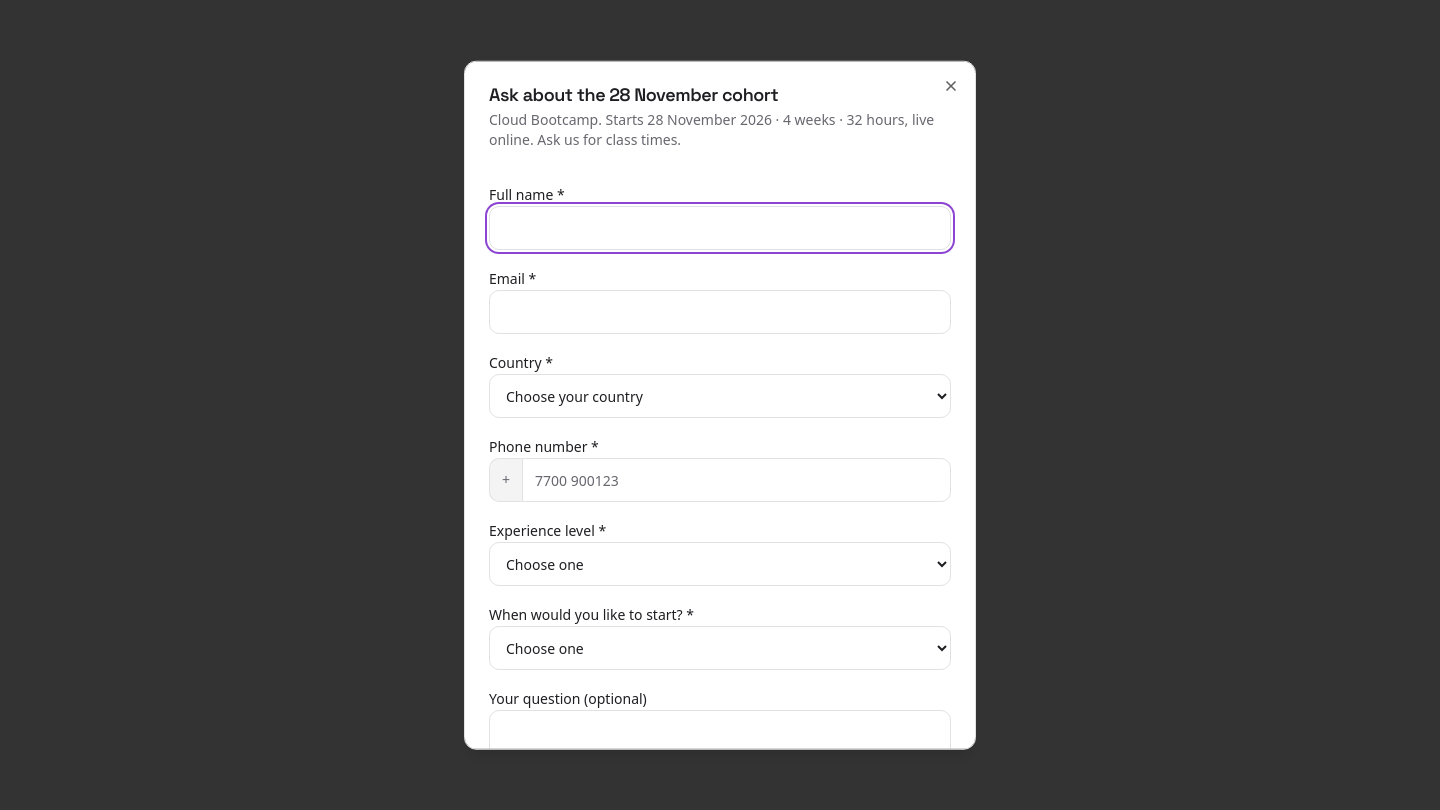
Scenario: Cloud cohort enquiry › saves the enquiry with the course preselected, then tracks one Lead
In the field labelled "Full name *": point(720, 228) [489, 206, 951, 250], type "Ada Test"
In the field labelled "Email *": point(720, 312) [489, 290, 951, 334], type "ada@example.test"
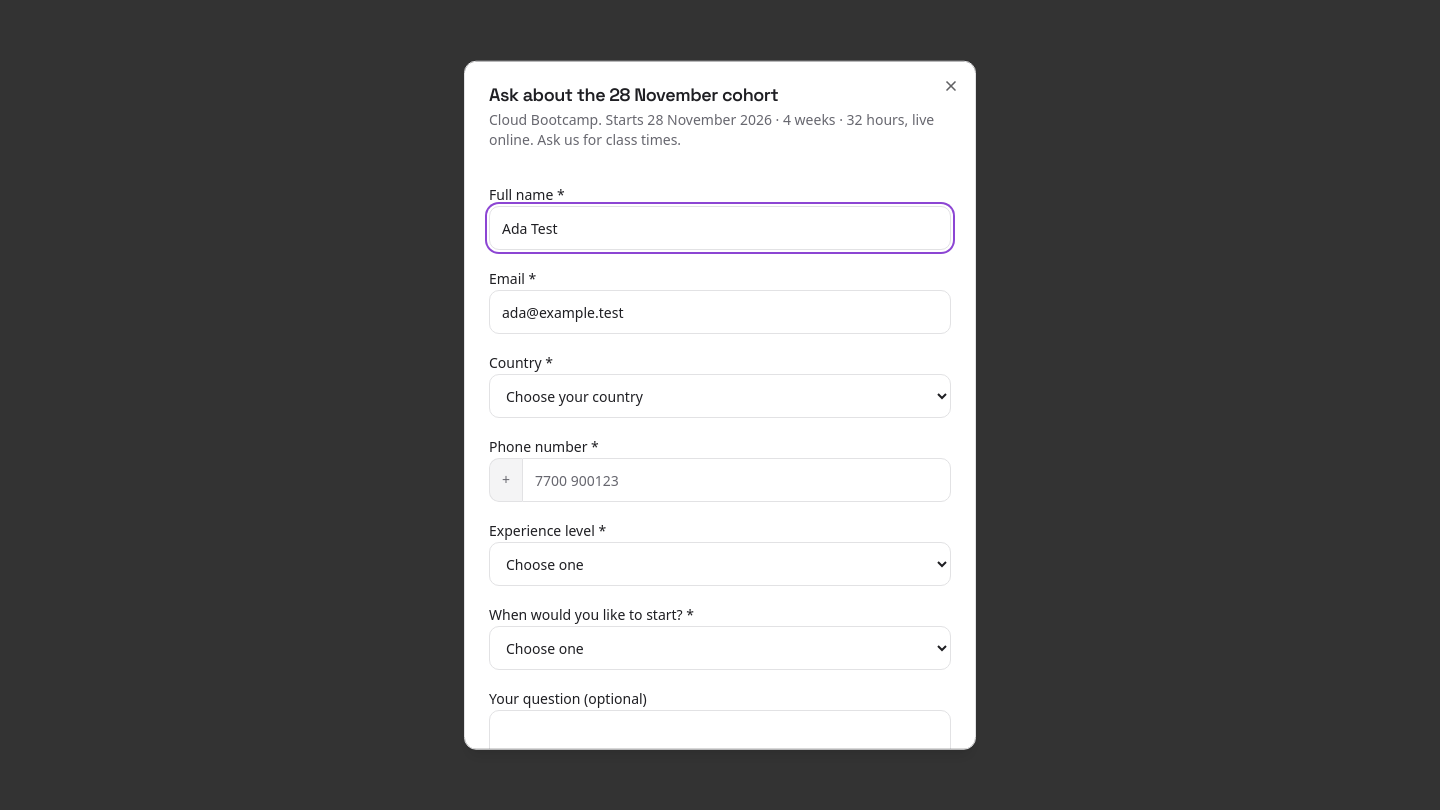
In the field labelled "Phone number *": point(736, 480) [522, 458, 951, 502], type "+234 801 234 5678"
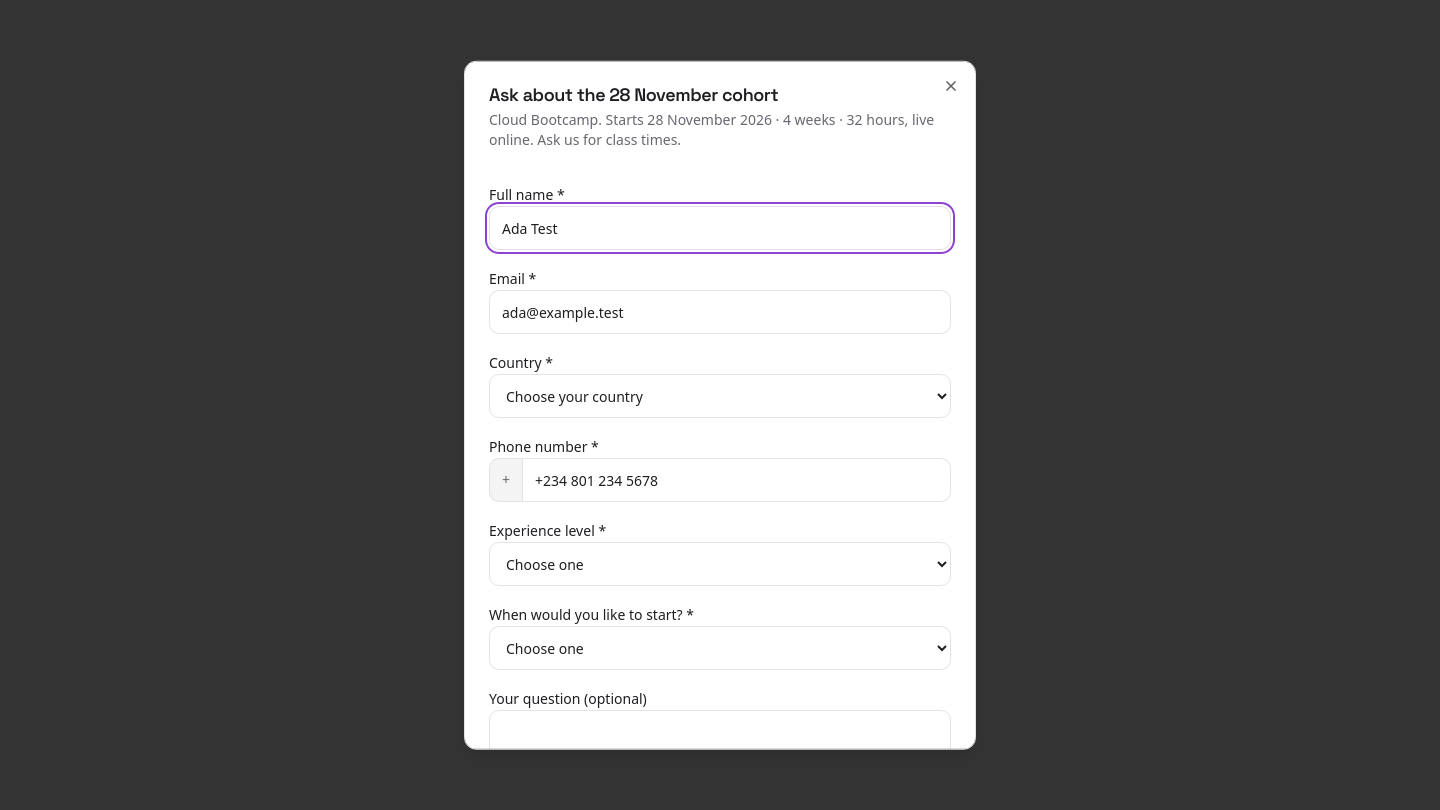
Select "Nigeria (+234)" in the dropdown labelled "Country *": point(720, 396) [489, 374, 951, 418]
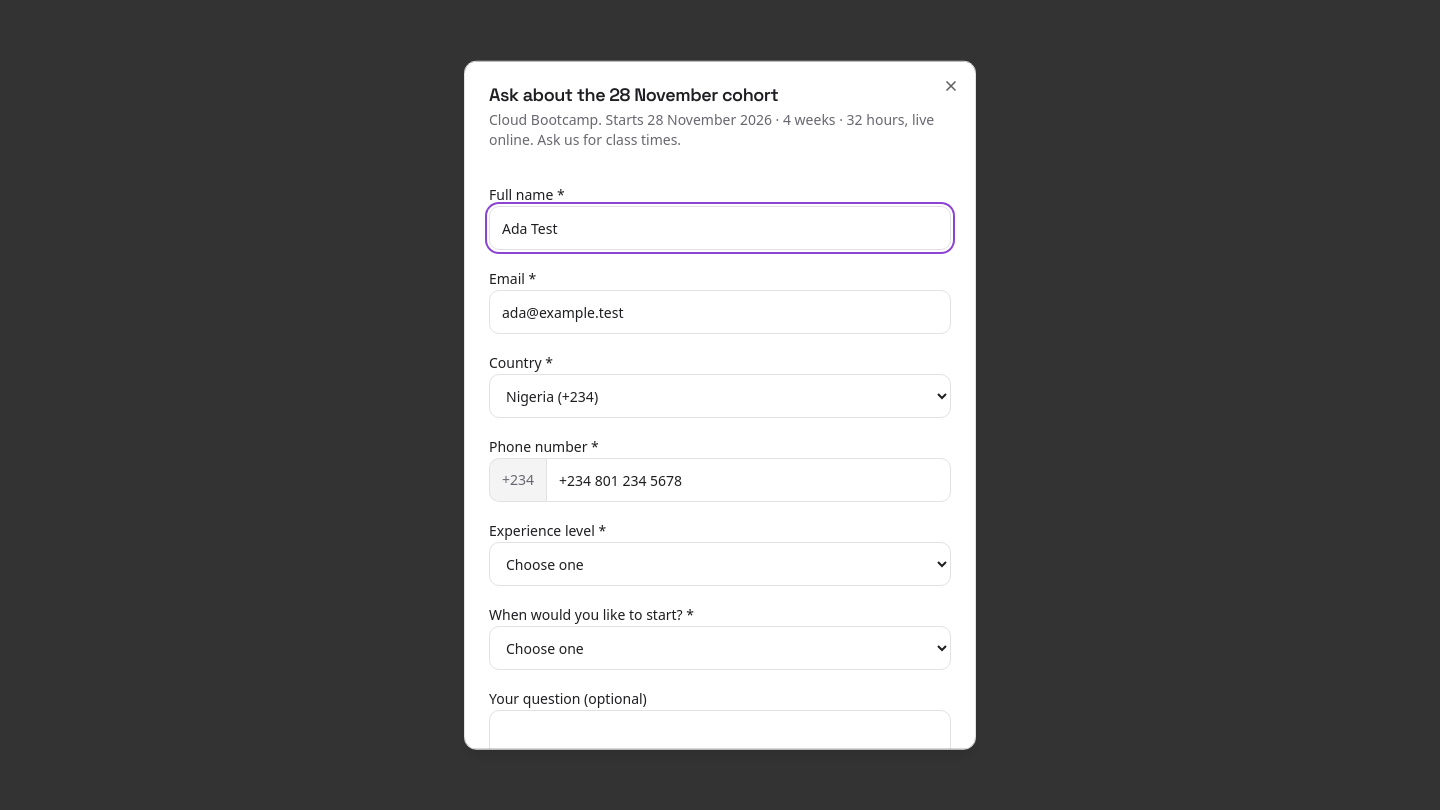
Select "Beginner / career changer" in the dropdown labelled "Experience level *": point(720, 564) [489, 542, 951, 586]
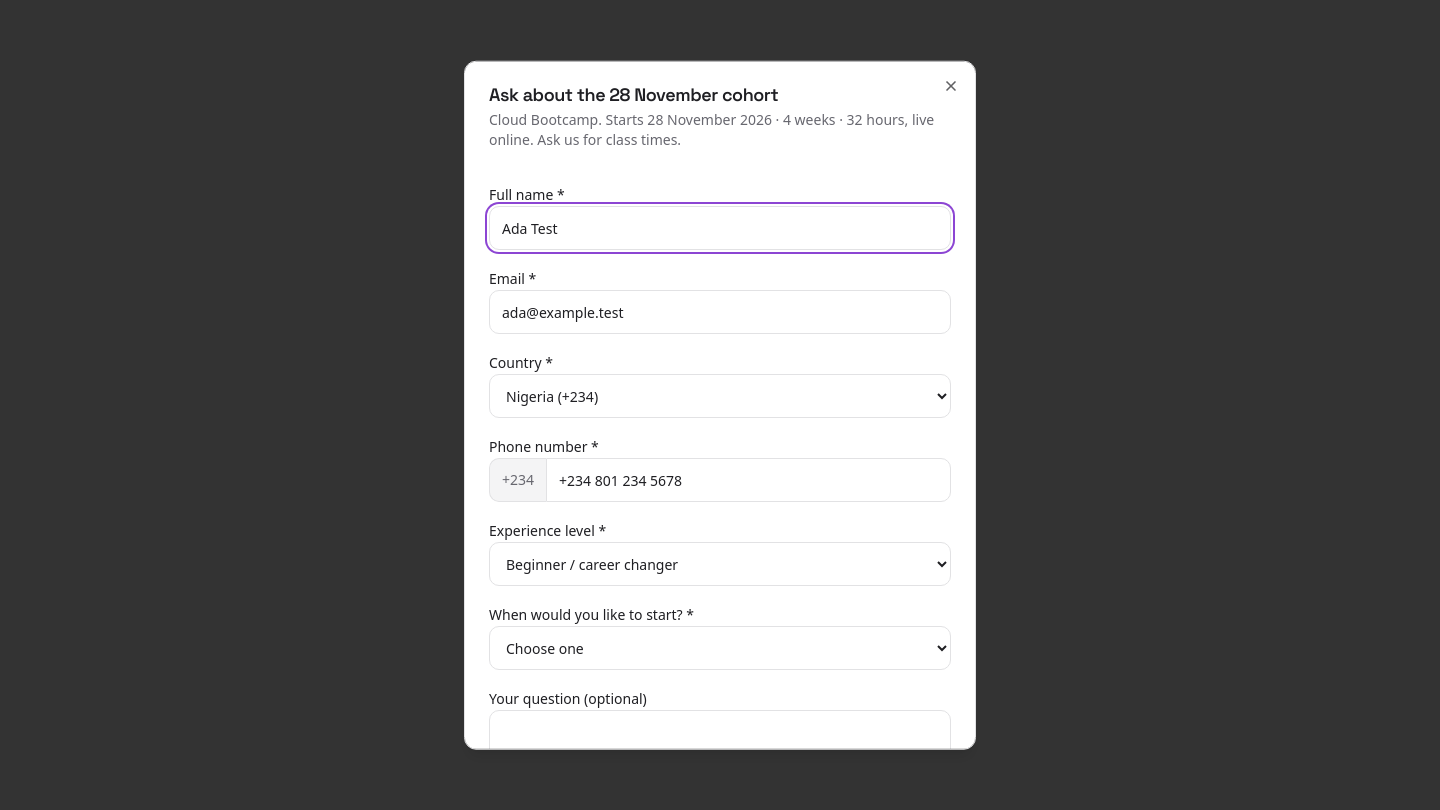
Select "28 November 2026" in the dropdown labelled "When would you like to start? *": point(720, 648) [489, 626, 951, 670]
(page scrolled)
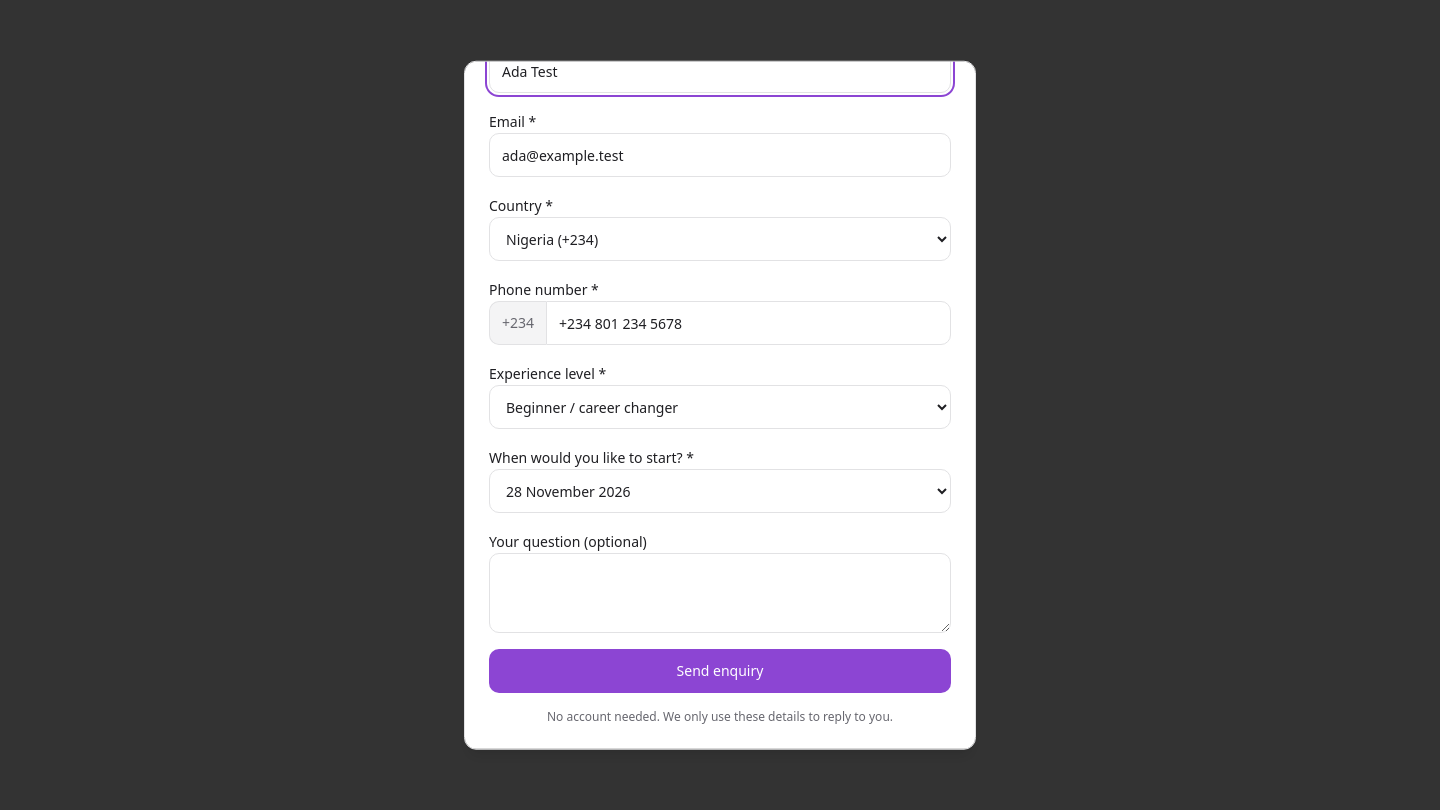
Click the button "Send enquiry": point(720, 671) [489, 649, 951, 693]
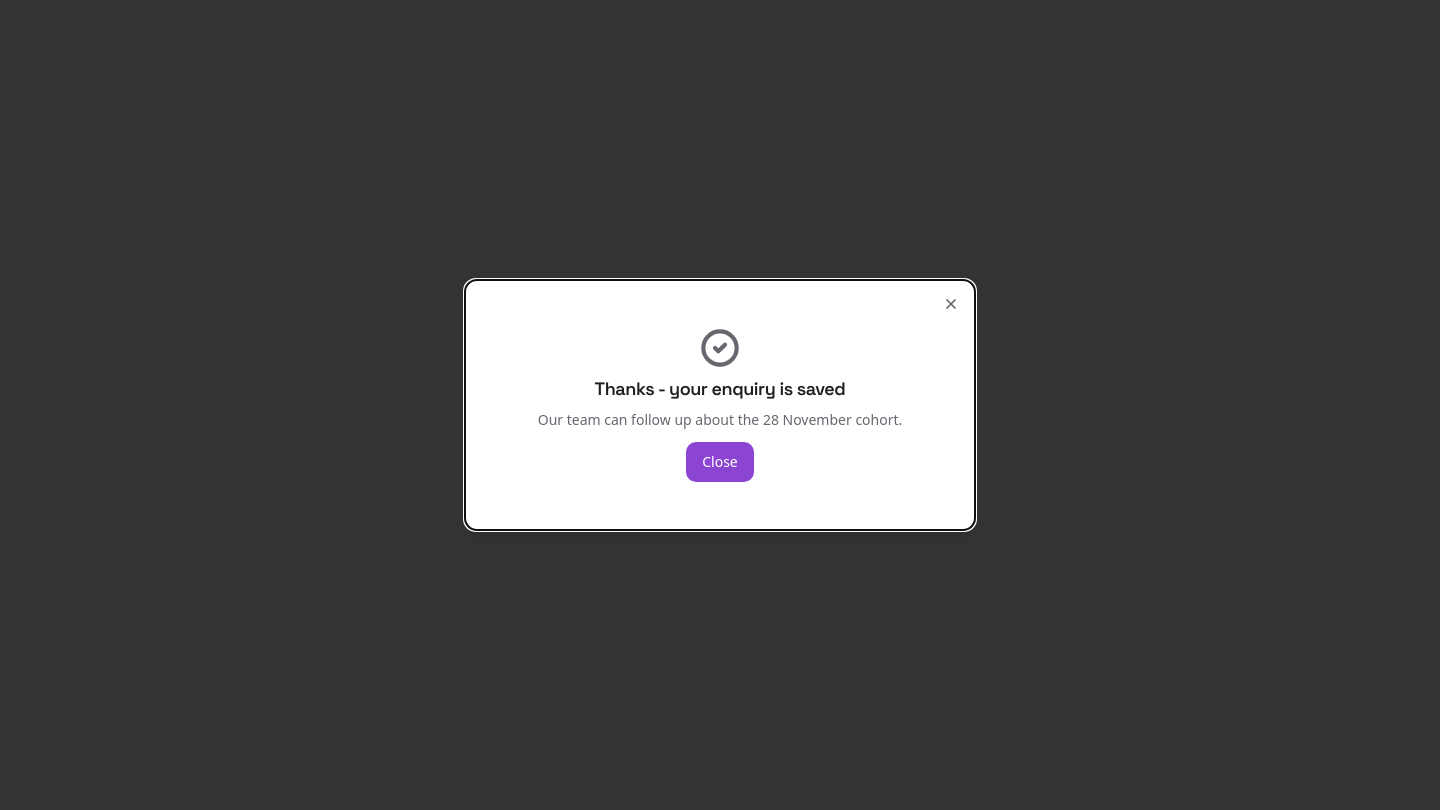
Check: the heading "Thanks - your enquiry is saved" is shown, box [595, 377, 845, 400]
